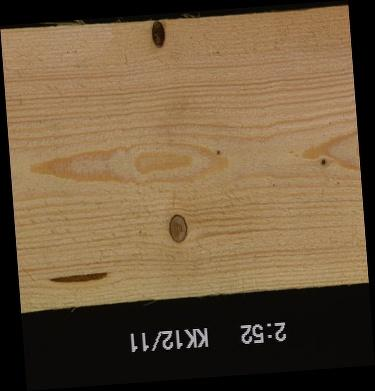dry_knot: (167, 213, 189, 244)
small_knot: (209, 143, 225, 160), (317, 153, 328, 169)
